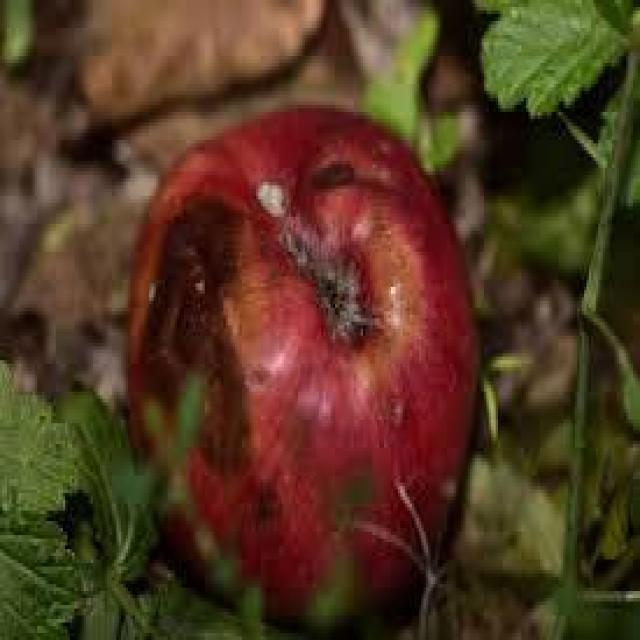Rotten: (122, 110, 478, 630)
